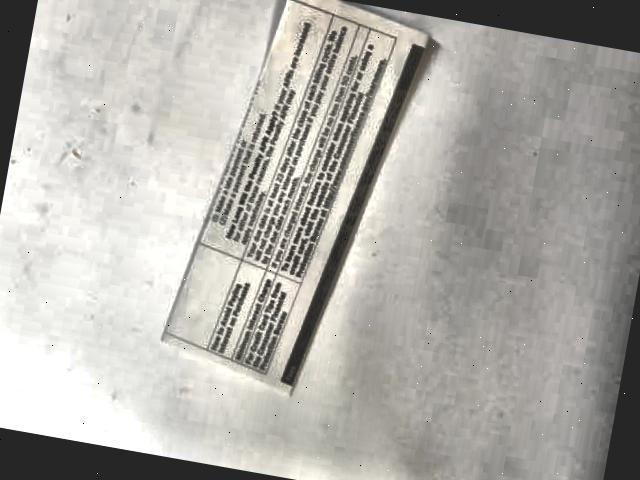Paper: (163, 0, 440, 402)
